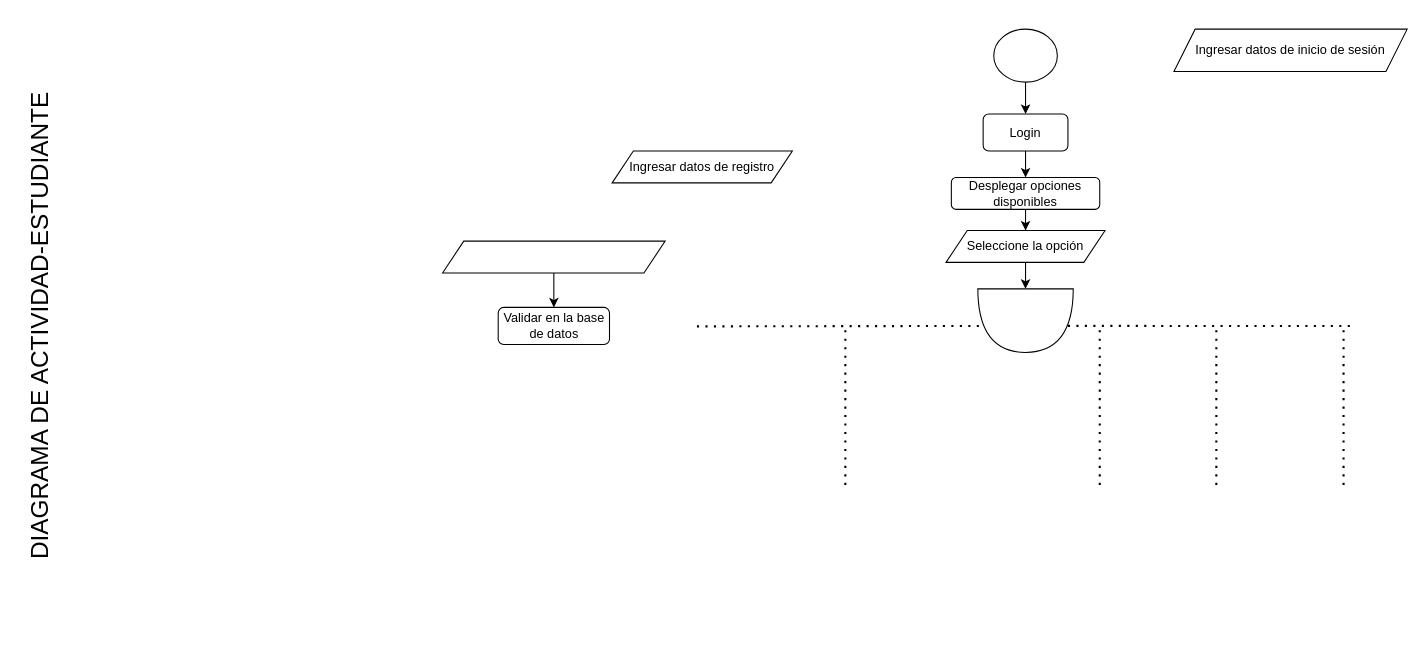
Image size: 1426x651. Some labels were removed from this diagram. Each missing label, with the centre of its shape:
Ingresar correo de recuperación: the point at 553,256
inicio: the point at 1025,55
Según la opcion: the point at 1025,320
